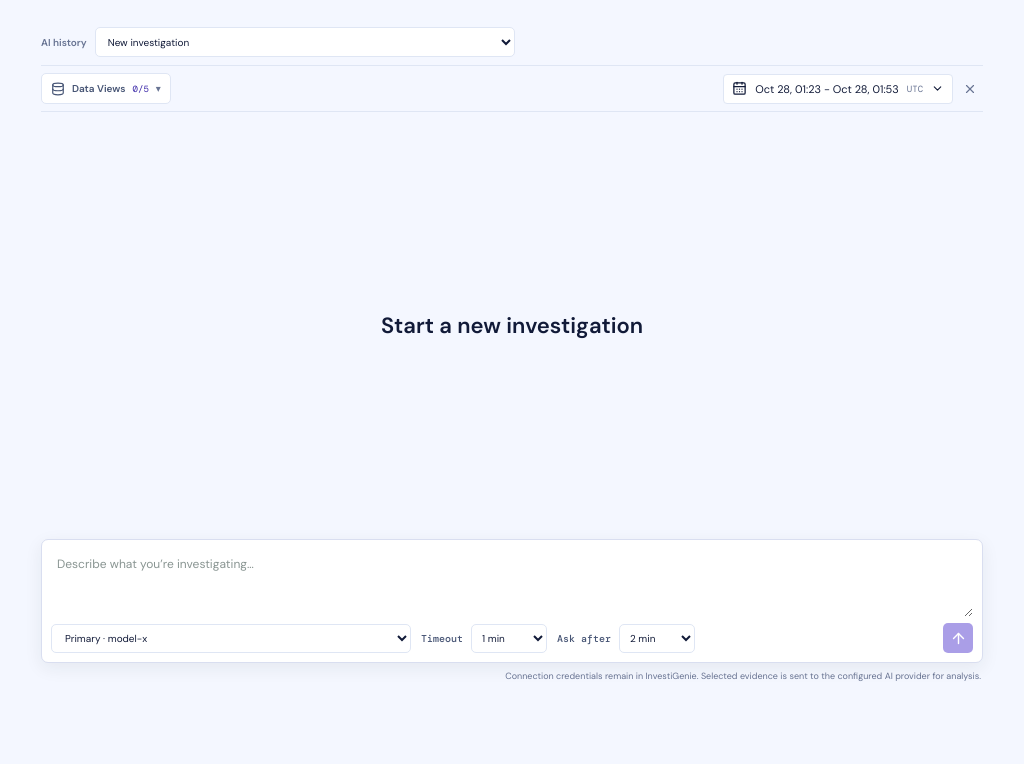
Test: InvestiGenieAIPage › saves history results using the stored investigation reference and scope
Select "Saved case" in the dropdown named "AI conversation history" at (305, 42), box [95,27,515,57]
(page scrolled)
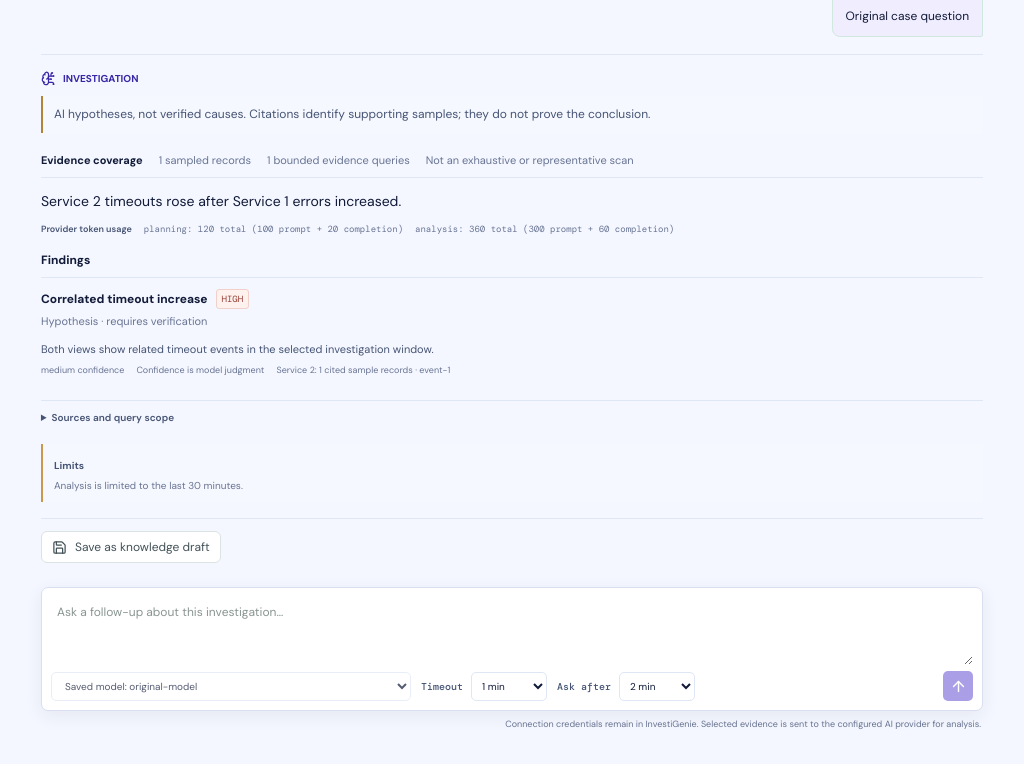
Click the button "Save as knowledge draft" at (131, 548), box [41,532,221,564]
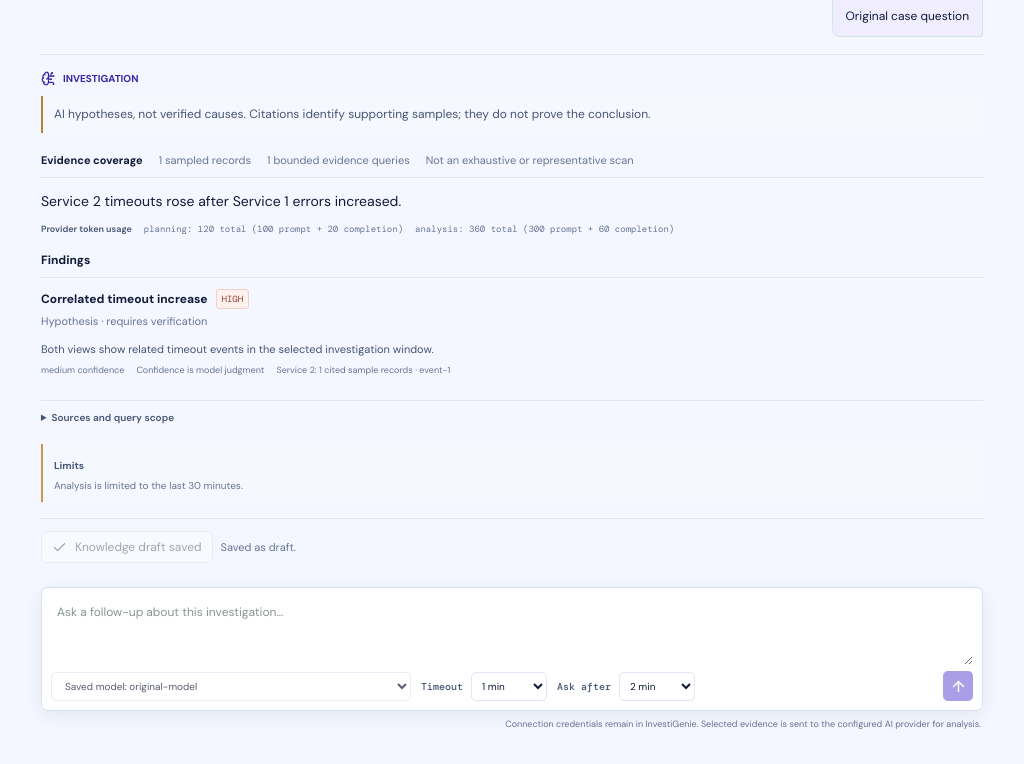
Now the text "Saved as draft." is shown, box [220,540,296,554]
